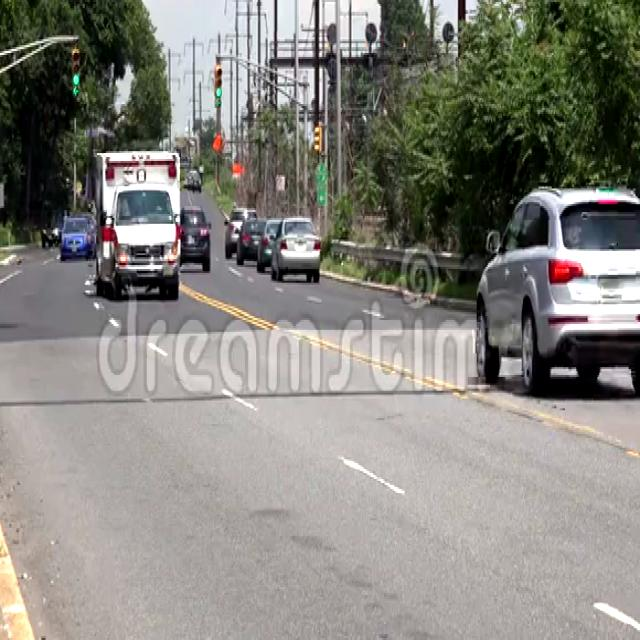ambulance: (96, 150, 183, 302)
